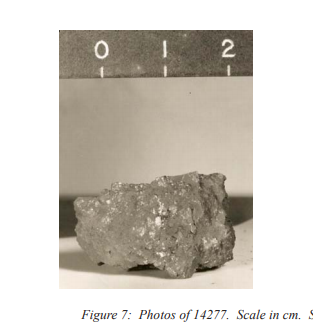Breccia: (77, 152, 241, 275)
